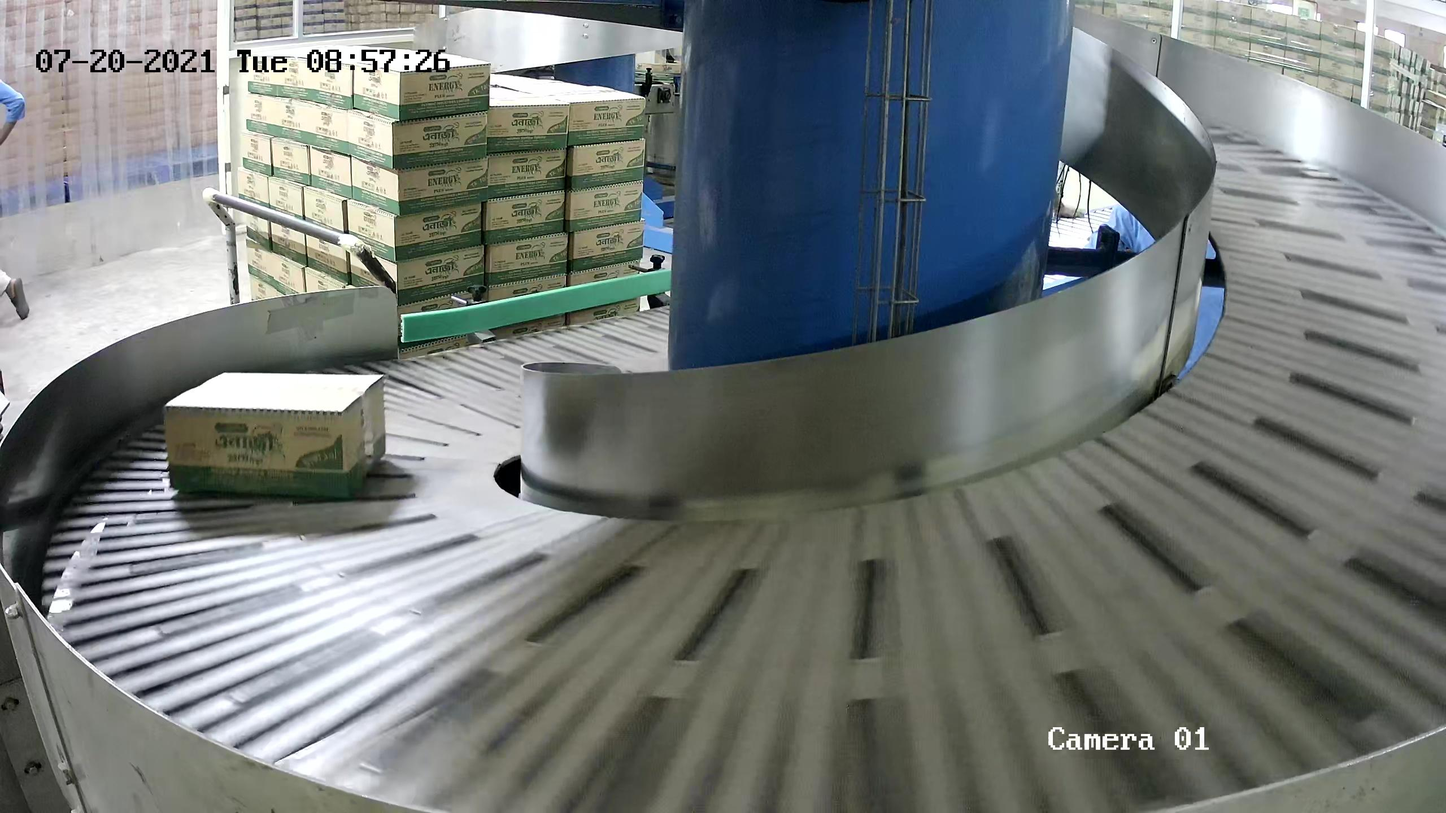Box: (163, 370, 387, 502)
